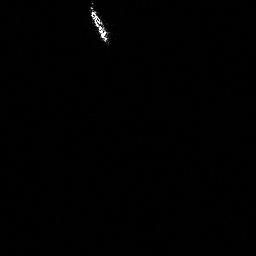ship: (84, 2, 112, 46)
